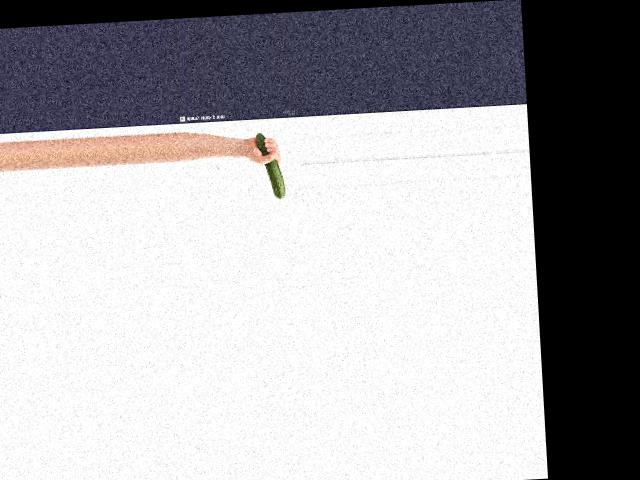cucumber: (256, 131, 286, 199)
